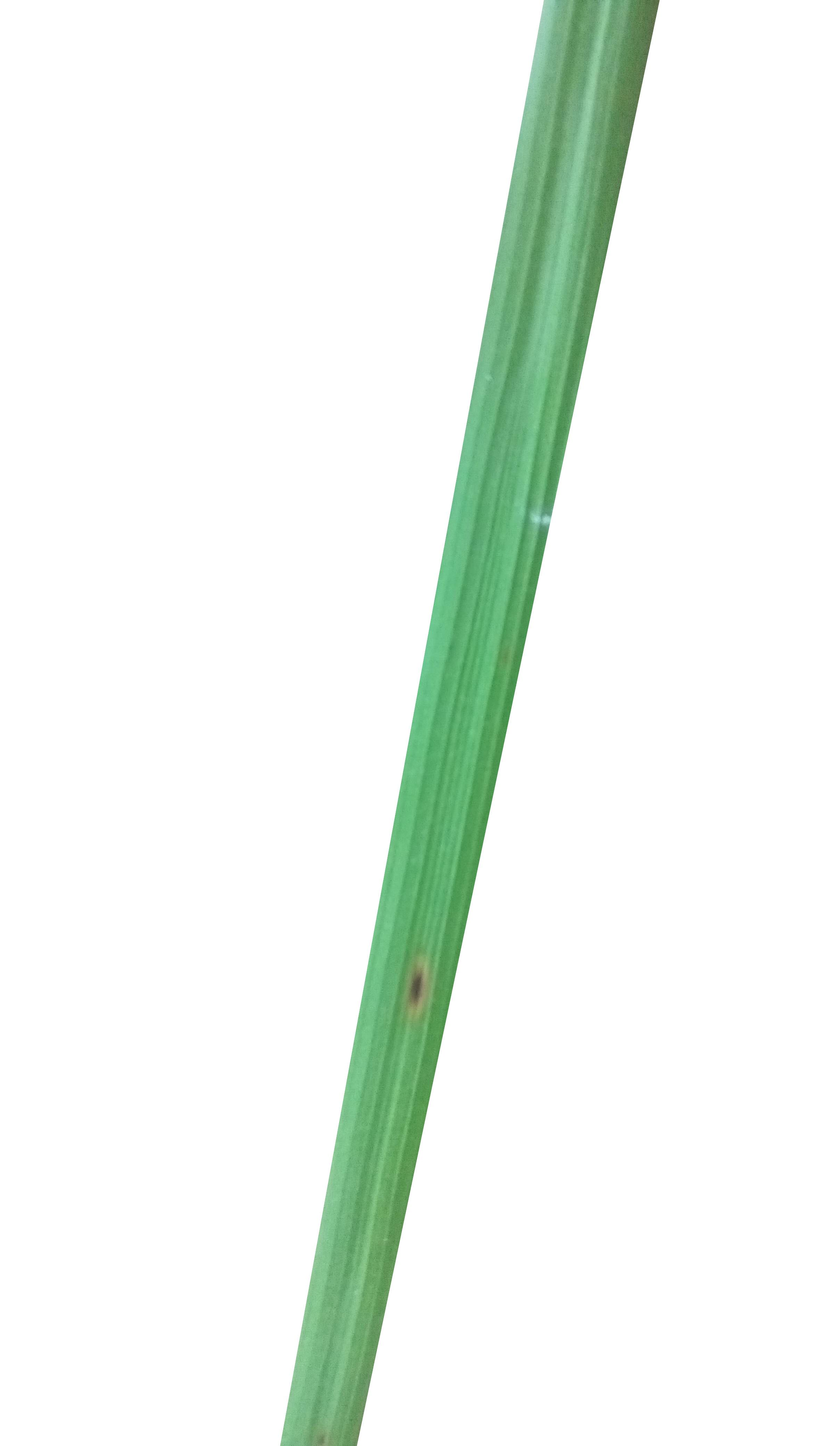Brown spot: (386, 952, 455, 1036)
